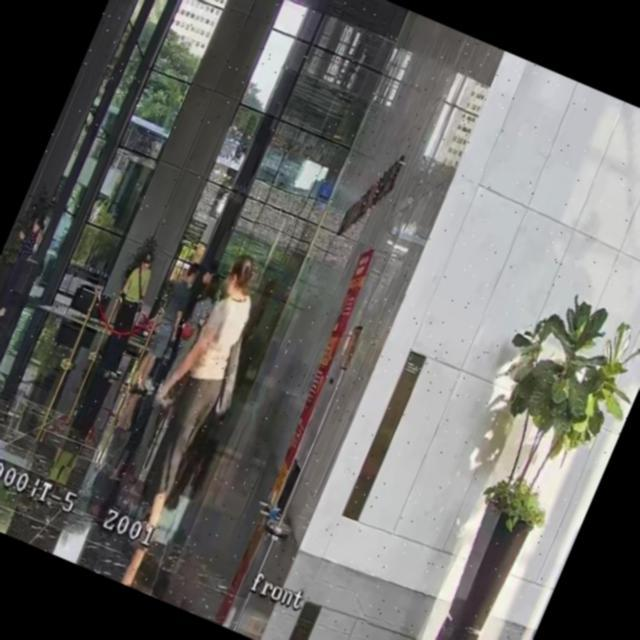person: (103, 243, 287, 547), (127, 254, 206, 396), (152, 269, 226, 406), (89, 246, 164, 374), (0, 211, 46, 323)
